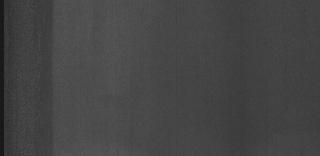silk spot: (18, 23, 52, 125)
